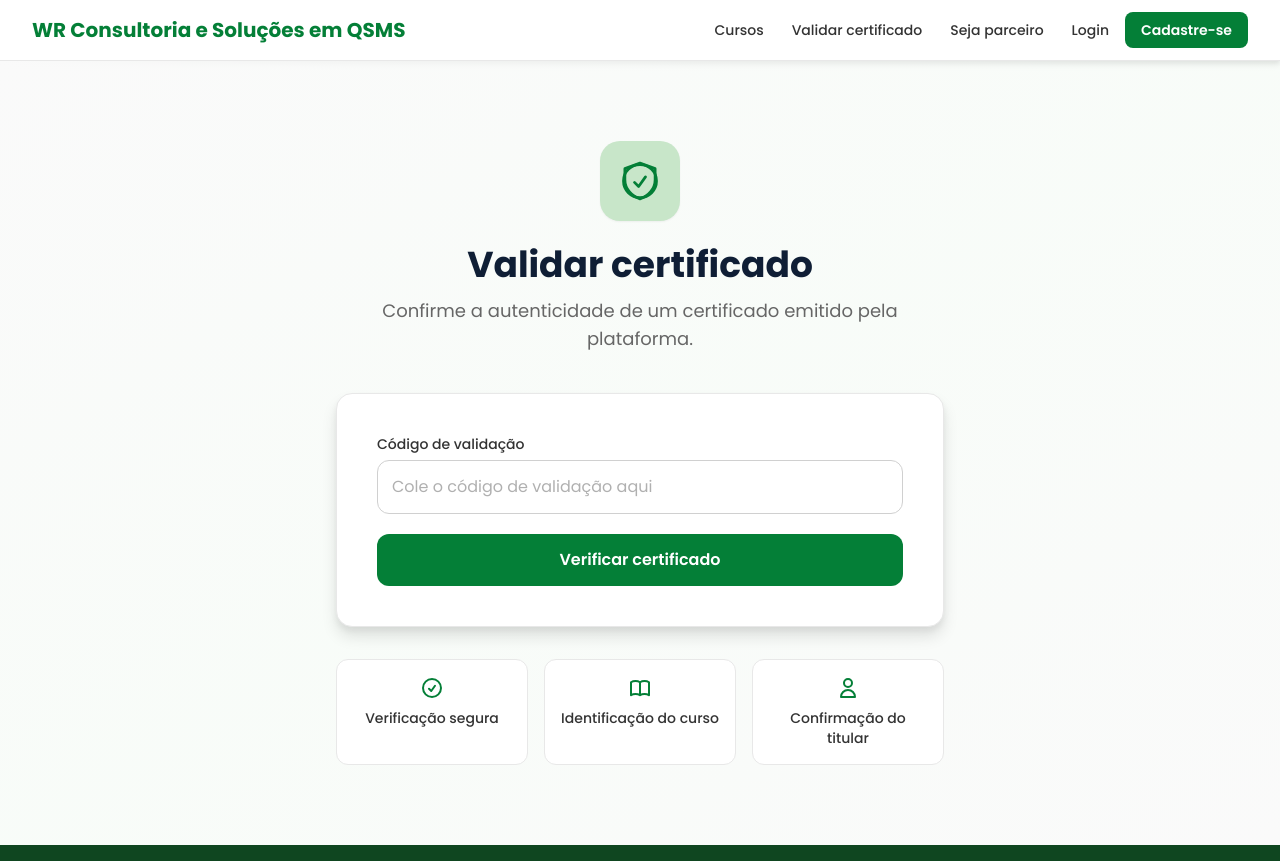
Test: ValidateCertificate › shows invalid state on 404 (not found)
Type "INVALID-CODE" into the field with test id "validate-code-input" at (640,487), box [377,460,903,514]
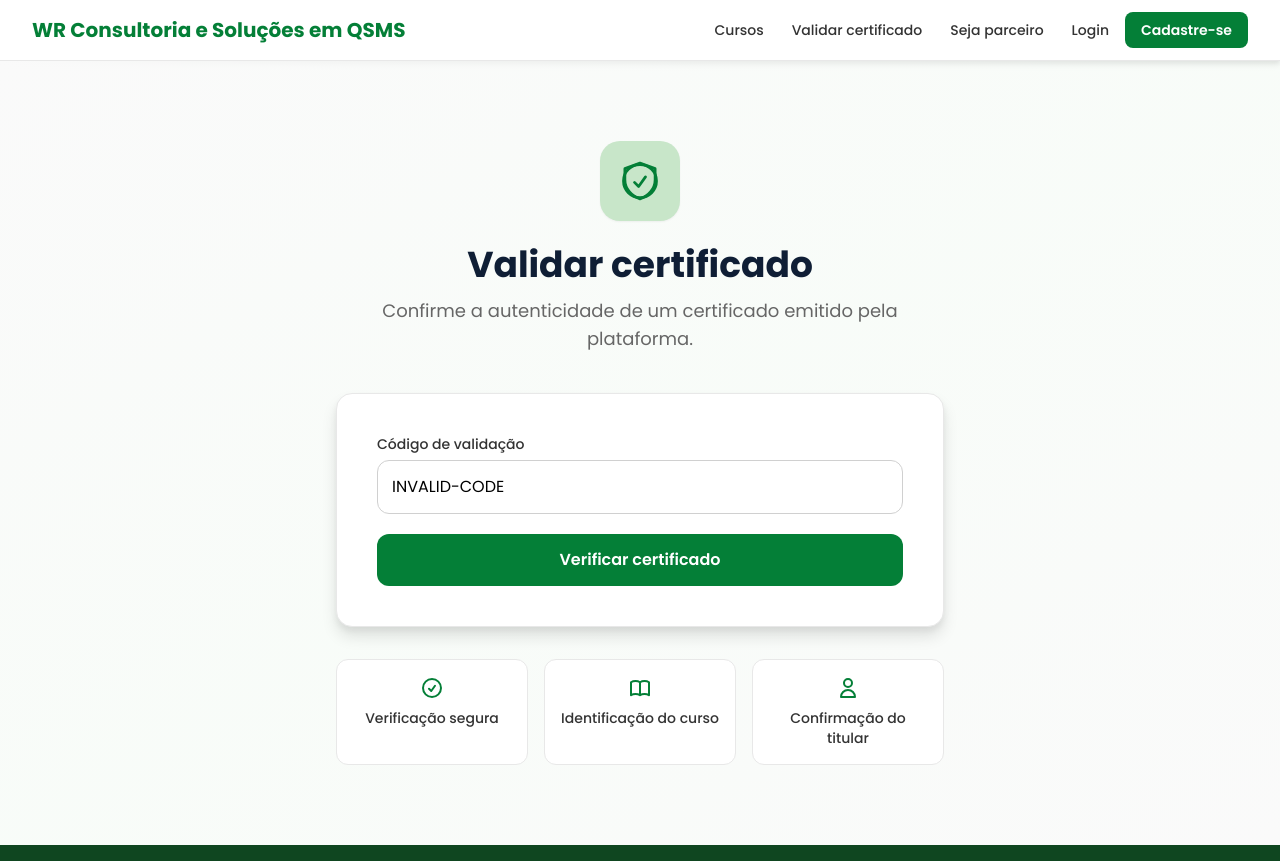
Submit the form, box [377,434,903,586]
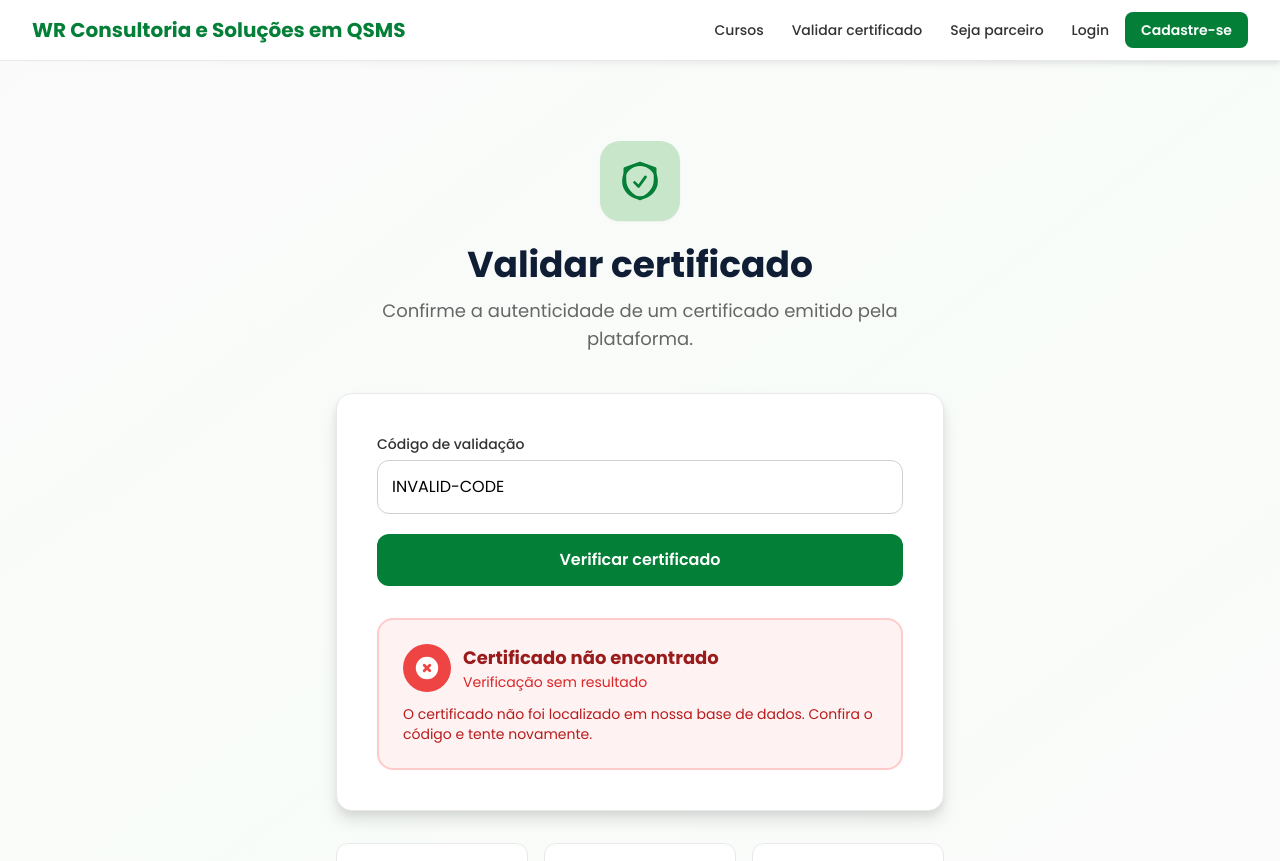
Expected: the element with test id "validate-invalid" is shown, [377,618,903,770]
Expected: the text "não foi localizado" is shown, [403,704,873,744]
